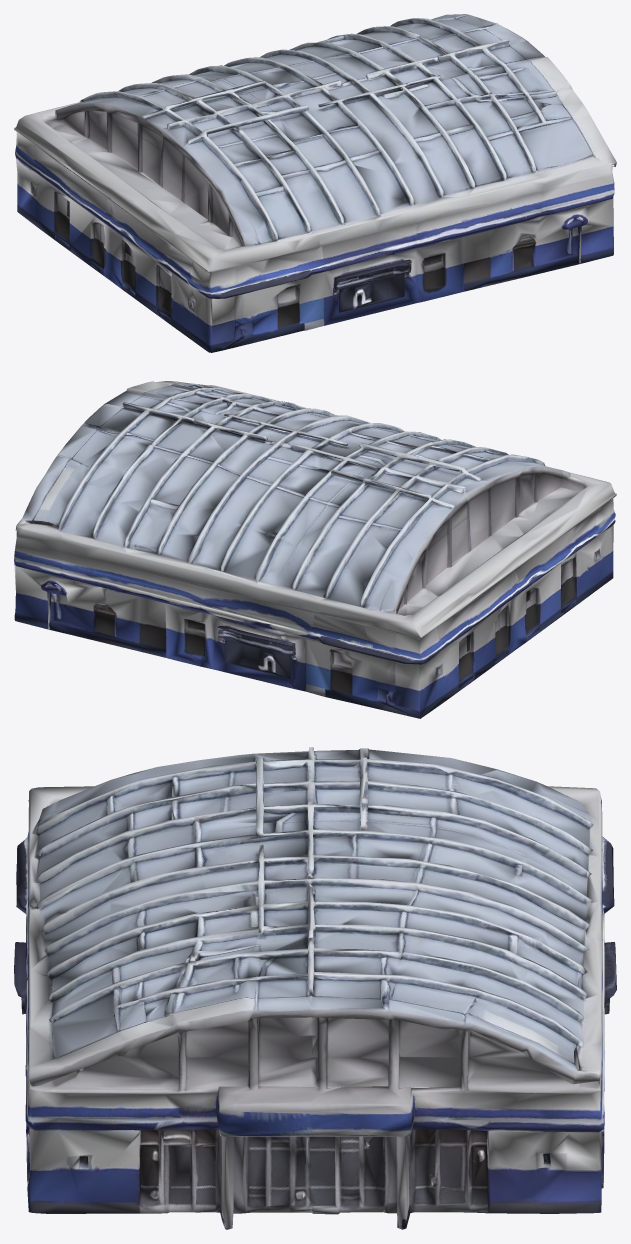
The model's file is sports-hall.glb.
3 renders of one model, top to bottom at view 1: azimuth 30°, elevation 25°; view 2: azimuth 150°, elevation 25°; view 3: azimuth 270°, elevation 25°, orthographic. The views are drawn at different scales.
Visible parts, largest first — view 1: node_7fee053a-b3df-42a0-8ec0-e59c7ed7ed2f; view 2: node_7fee053a-b3df-42a0-8ec0-e59c7ed7ed2f; view 3: node_7fee053a-b3df-42a0-8ec0-e59c7ed7ed2f.
Boxes of the visible parts, left/top/right/bottom form: node_7fee053a-b3df-42a0-8ec0-e59c7ed7ed2f: left=14, top=14, right=616, bottom=352; node_7fee053a-b3df-42a0-8ec0-e59c7ed7ed2f: left=14, top=381, right=616, bottom=718; node_7fee053a-b3df-42a0-8ec0-e59c7ed7ed2f: left=14, top=747, right=616, bottom=1229.
Bounding box in the file's own units: 0.9992 × 0.3306 × 0.8234.
1 material, 1 textured.
